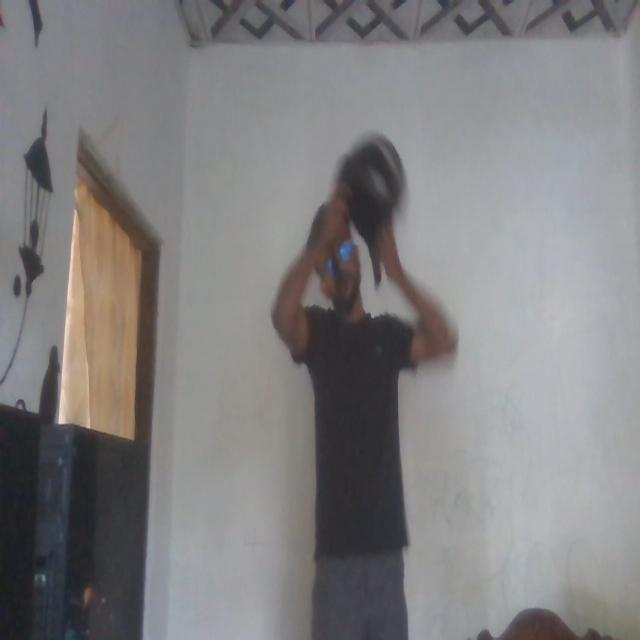Person: (253, 149, 451, 640)
